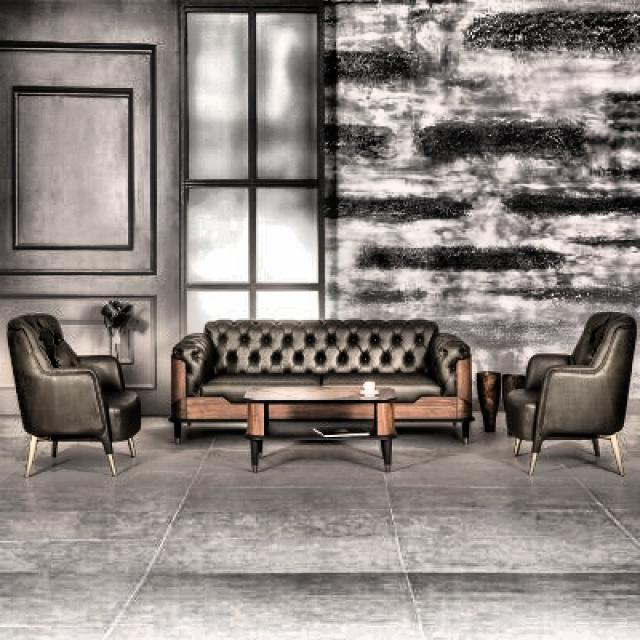sofa: (168, 317, 474, 446)
